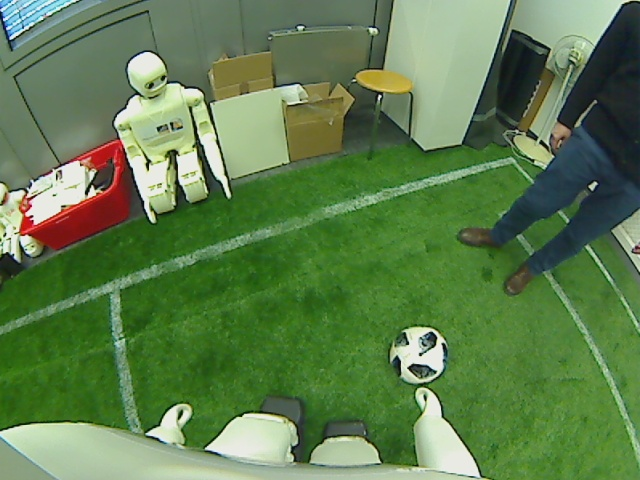ball: (386, 326, 449, 384)
